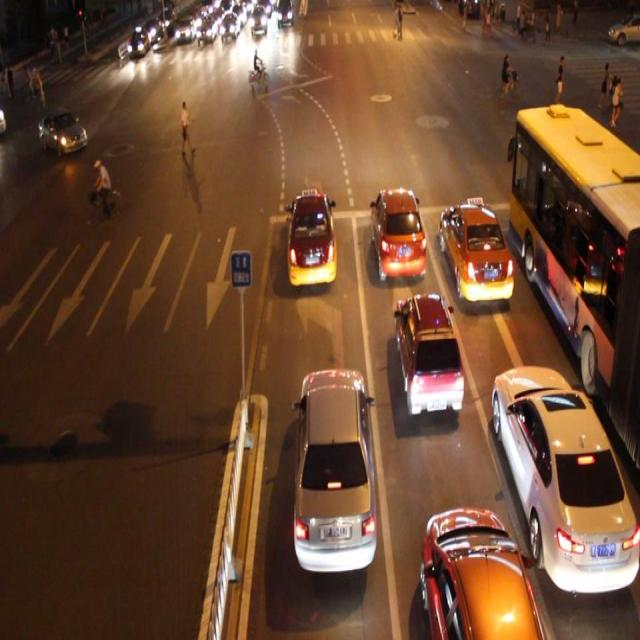car: (490, 363, 640, 595), (293, 364, 377, 574), (420, 501, 543, 640), (392, 293, 462, 417), (439, 201, 512, 306), (368, 185, 426, 284), (286, 188, 336, 287), (38, 110, 88, 154)
van: (512, 104, 640, 465)
